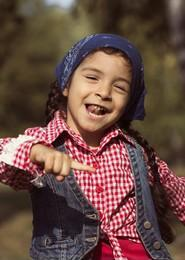face: (74, 58, 130, 132)
